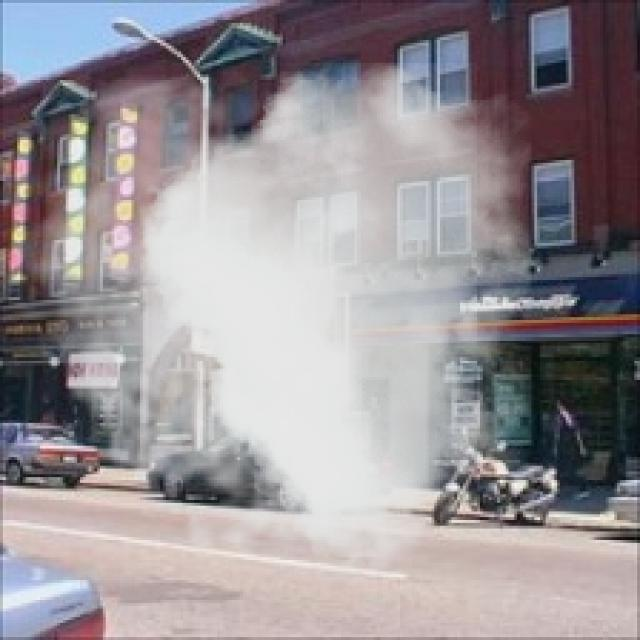smoke: (3, 63, 531, 588)
